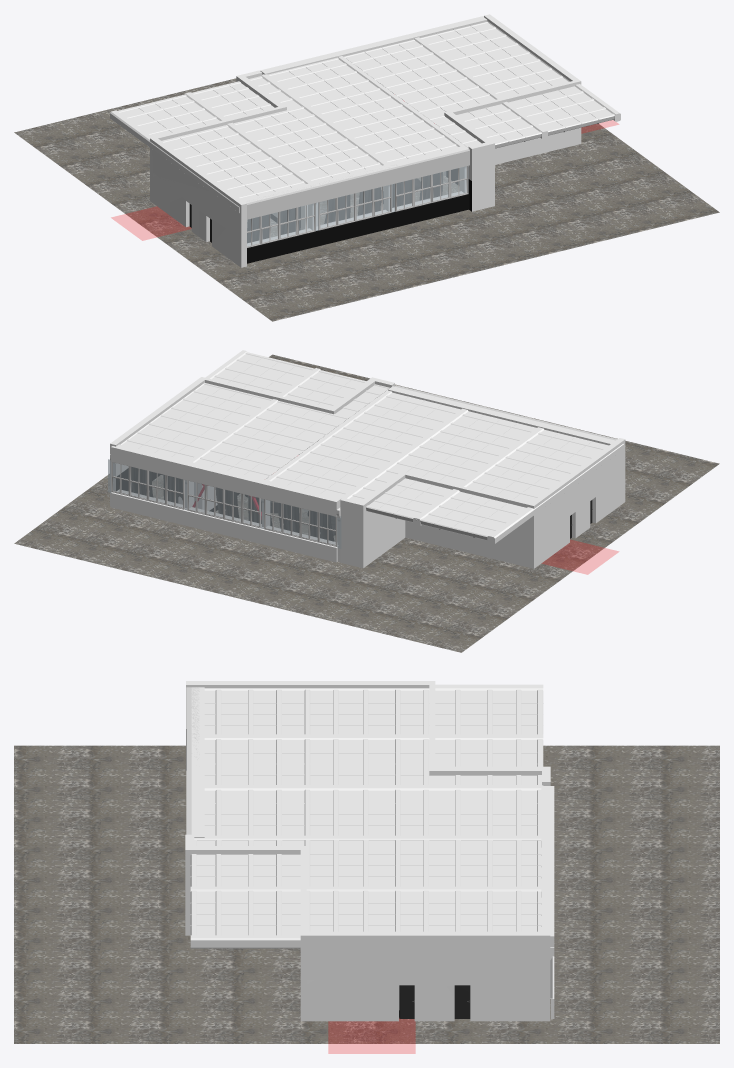
The model's file is No_Content.fbx.
3 views of the same model, one above another, from view 1: azimuth 30°, elevation 25°; view 2: azimuth 150°, elevation 25°; view 3: azimuth 270°, elevation 25° (orthographic). The views are drawn at different scales.
Visible parts, largest first — view 1: floor_001, ceiling_004, wall_002, Plane_001, Cube_001, Plane_003_curtains_0, Plane_002, Plane_003; view 2: ceiling_004, floor_001, wall_002, Plane_003, Plane_003_curtains_0, Plane_001, Plane_002, Cube_001, collums; view 3: floor_001, ceiling_004, wall_002, Plane_002, Plane_003, Plane_001, Cube_001, door.
Part boxes in pixels (x1=…): floor_001: x1=14, y1=78, x2=719, y2=321; ceiling_004: x1=110, y1=21, x2=620, y2=212; wall_002: x1=150, y1=14, x2=581, y2=267; Plane_001: x1=242, y1=145, x2=469, y2=263; Cube_001: x1=247, y1=149, x2=469, y2=219; Plane_003_curtains_0: x1=247, y1=67, x2=442, y2=242; Plane_002: x1=111, y1=120, x2=618, y2=240; Plane_003: x1=260, y1=16, x2=487, y2=74; ceiling_004: x1=120, y1=350, x2=623, y2=544; floor_001: x1=14, y1=354, x2=719, y2=652; wall_002: x1=110, y1=377, x2=625, y2=568; Plane_003: x1=108, y1=444, x2=341, y2=562; Plane_003_curtains_0: x1=131, y1=467, x2=333, y2=541; Plane_001: x1=388, y1=386, x2=615, y2=445; Plane_002: x1=542, y1=540, x2=618, y2=574; Cube_001: x1=394, y1=385, x2=617, y2=440; collums: x1=110, y1=454, x2=340, y2=561; floor_001: x1=14, y1=745, x2=719, y2=1043; ceiling_004: x1=190, y1=684, x2=543, y2=948; wall_002: x1=185, y1=681, x2=550, y2=1021; Plane_002: x1=328, y1=1019, x2=415, y2=1053; Plane_003: x1=541, y1=786, x2=554, y2=1018; Plane_001: x1=191, y1=687, x2=204, y2=837; Cube_001: x1=186, y1=687, x2=199, y2=834; door: x1=399, y1=985, x2=470, y2=1018.
Size of the model in its own units: 2250 by 300 by 2109.
Materials: 23 (6 with a texture image).
